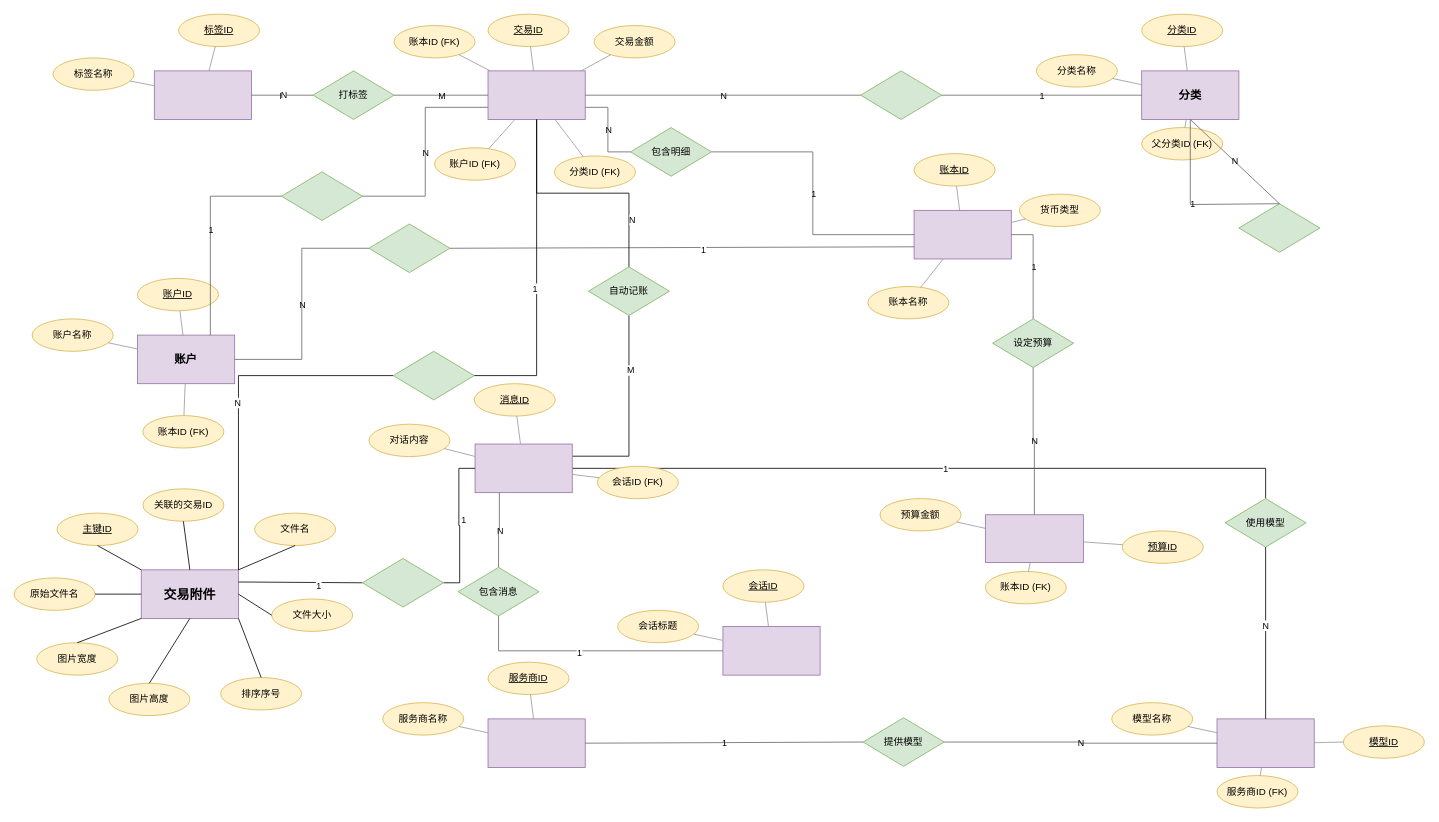
The diagram is 1439 pixels wide and 822 high, and some of its shapes have lost their labels. The shapes that lost their labels are listed below. From the top down, each one's centre as x and y in pixels, then its label:
the point at 202,94: 标签
the point at 536,94: 交易
the point at 901,94: 归类交易
the point at 321,195: 产生交易
the point at 962,234: 账本
the point at 1279,227: 层级关联
the point at 409,248: 所属账本
the point at 433,375: 添加图片
the point at 523,468: AI对话消息
the point at 1034,538: 预算
the point at 402,582: 上传图片
the point at 771,650: AI对话会话
the point at 536,742: AI服务商
the point at 1265,742: AI模型
